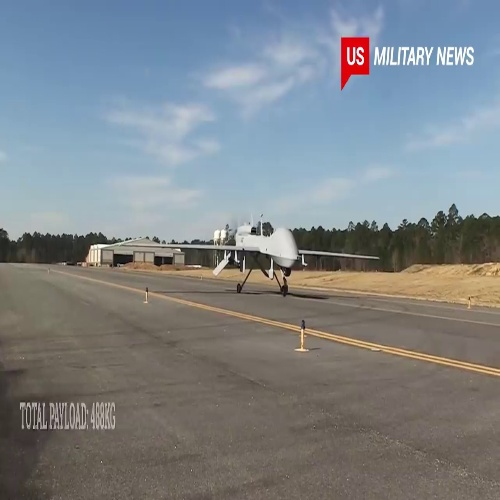uav: (123, 217, 383, 294)
